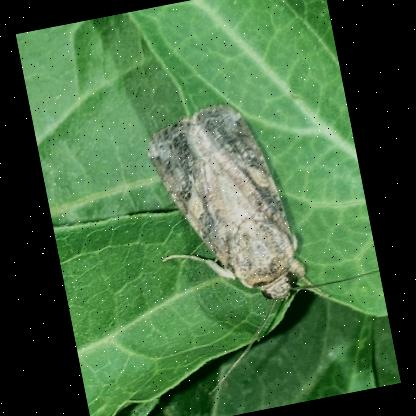Fall Armyworm Moth: (131, 76, 396, 400)
